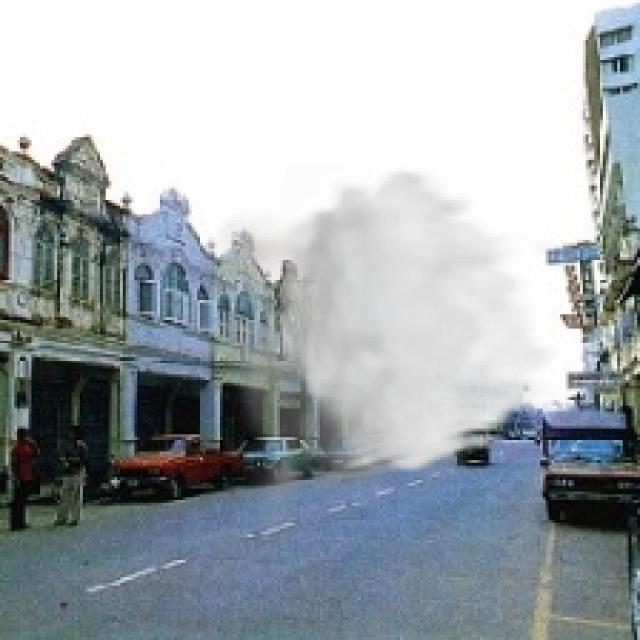Smoke: (208, 165, 563, 540)
